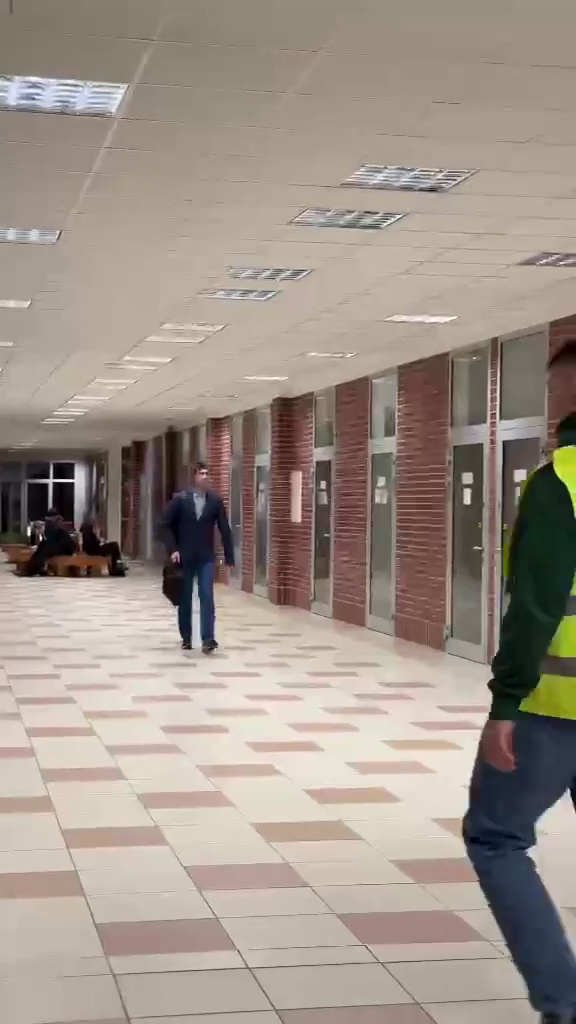no vest: (151, 450, 238, 669)
vest: (459, 337, 576, 1014)
